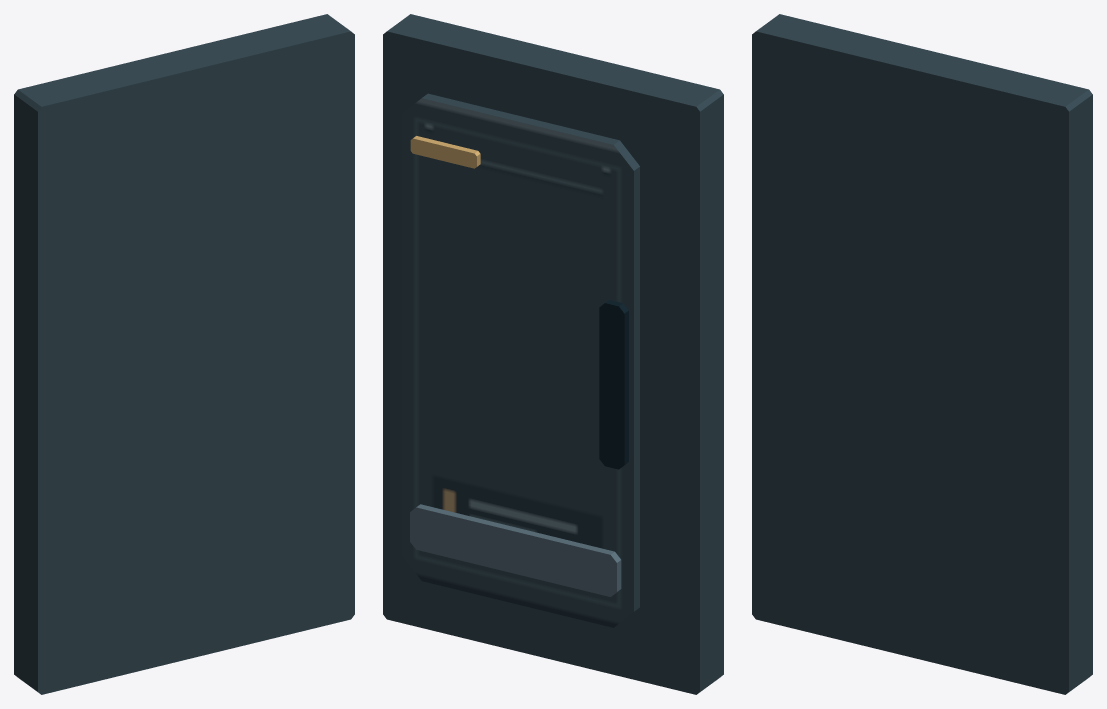
Rendered from ship_locker_right_door.obj.
3 views of the same model, side by side, from view 1: azimuth 30°, elevation 25°; view 2: azimuth 150°, elevation 25°; view 3: azimuth 330°, elevation 25° (orthographic).
Parts seen in each view (by area): view 1: right_sliding_door_0; view 2: door_inset_1_1, right_sliding_door_0, door_lower_raised_panel_1_4, recessed_pull_1_2, door_upper_marking_1_3; view 3: right_sliding_door_0.
Part boxes in pixels (x1,y1,x2,y2): right_sliding_door_0: (14,14,354,694); door_inset_1_1: (401,93,639,627); right_sliding_door_0: (383,14,723,694); door_lower_raised_panel_1_4: (410,504,621,596); recessed_pull_1_2: (599,300,628,469); door_upper_marking_1_3: (410,136,480,168); right_sliding_door_0: (752,14,1092,694).
Size of the model in its own units: 0.3137 by 0.5562 by 0.0587.
